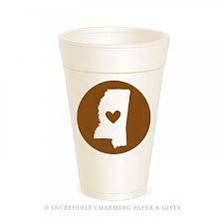paper_cup: (53, 20, 173, 204)
